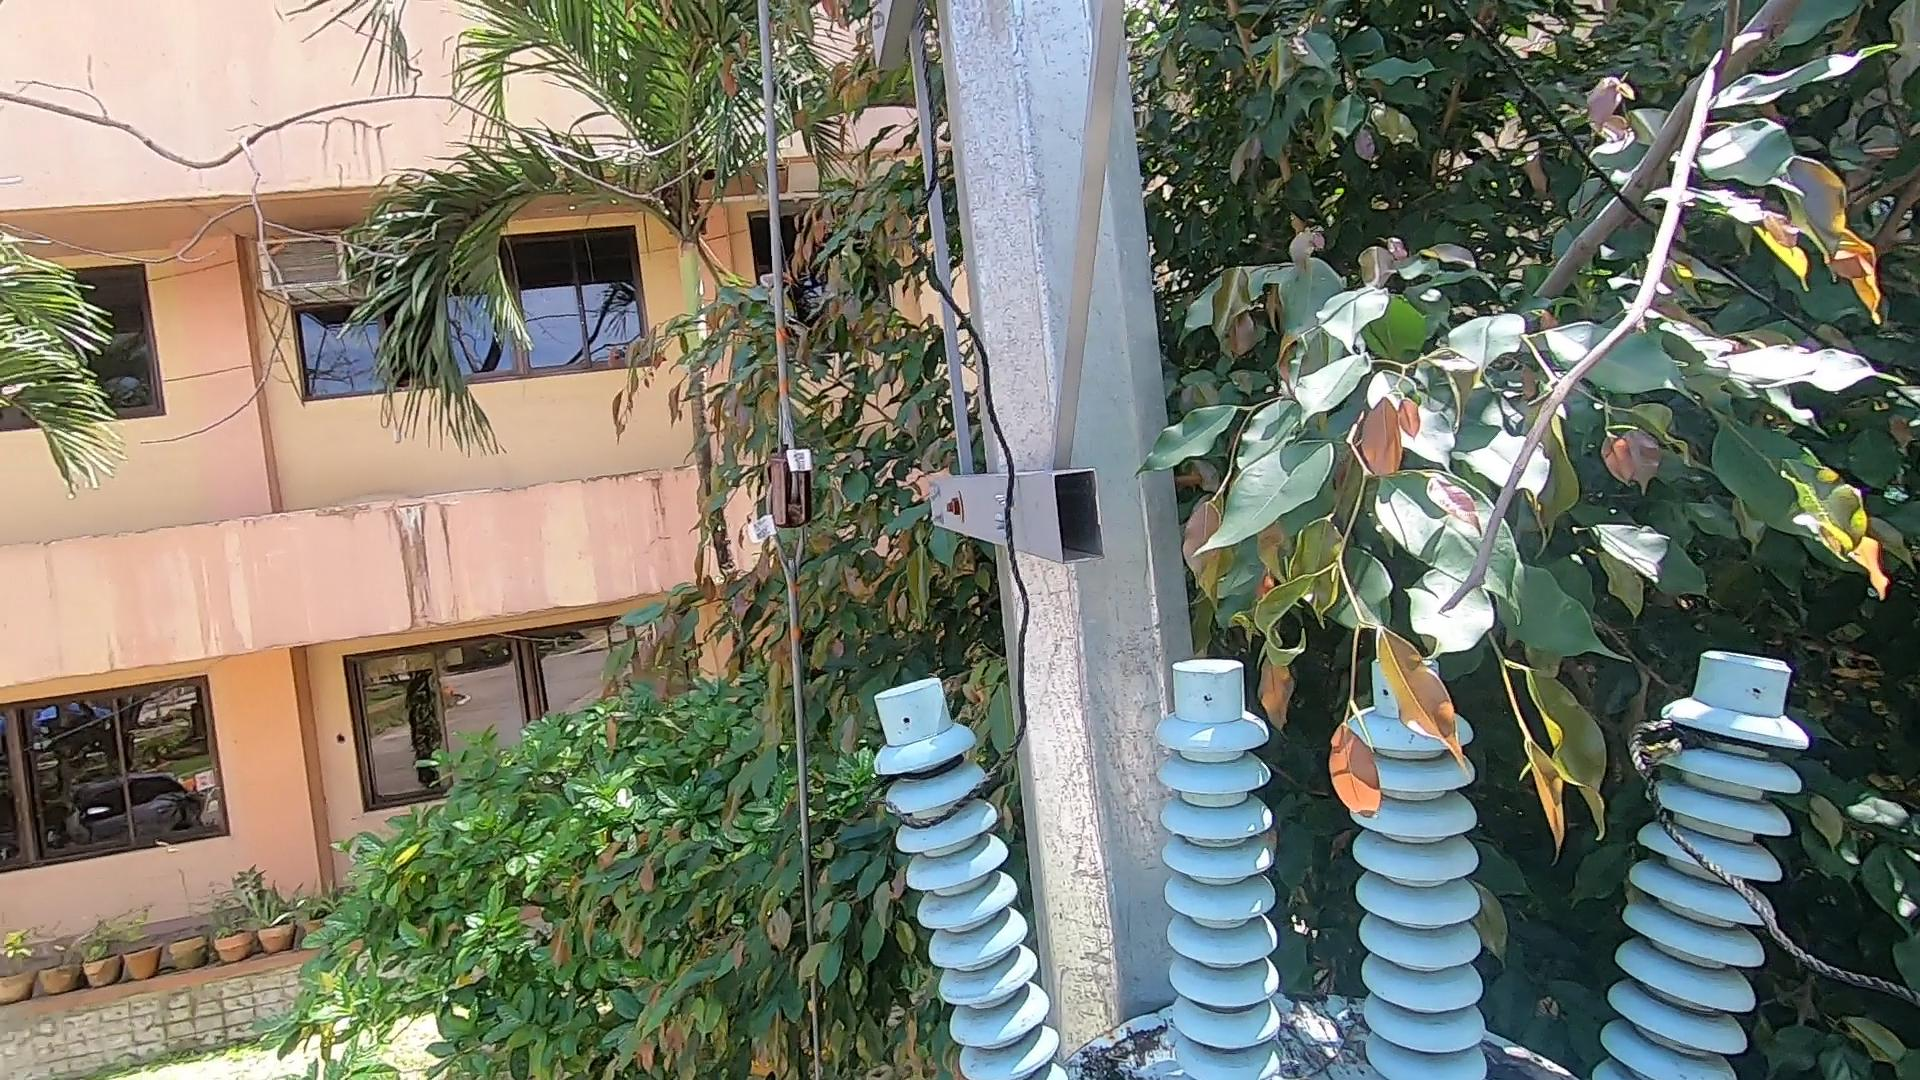tree branch: (1433, 1, 1824, 632)
